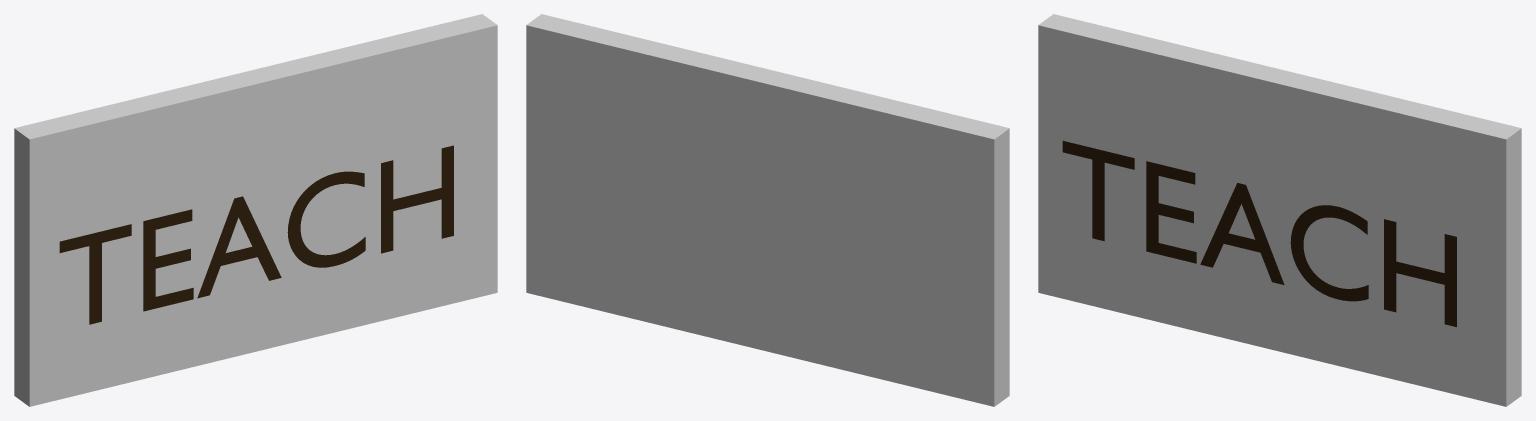
Rendered from menu_teach.gltf.
3 views of the same model, side by side, from view 1: azimuth 30°, elevation 25°; view 2: azimuth 150°, elevation 25°; view 3: azimuth 330°, elevation 25° (orthographic).
Parts seen in each view (by area): view 1: Cube.007, Text.004; view 2: Cube.007; view 3: Cube.007, Text.004.
Boxes of the visible parts, left/top/right/bottom form: Cube.007: left=14, top=14, right=497, bottom=406; Text.004: left=59, top=145, right=453, bottom=324; Cube.007: left=526, top=14, right=1009, bottom=406; Cube.007: left=1038, top=14, right=1521, bottom=406; Text.004: left=1062, top=141, right=1456, bottom=327.
Size of the model in its own units: 0.2811 by 0.1535 by 0.0189.
